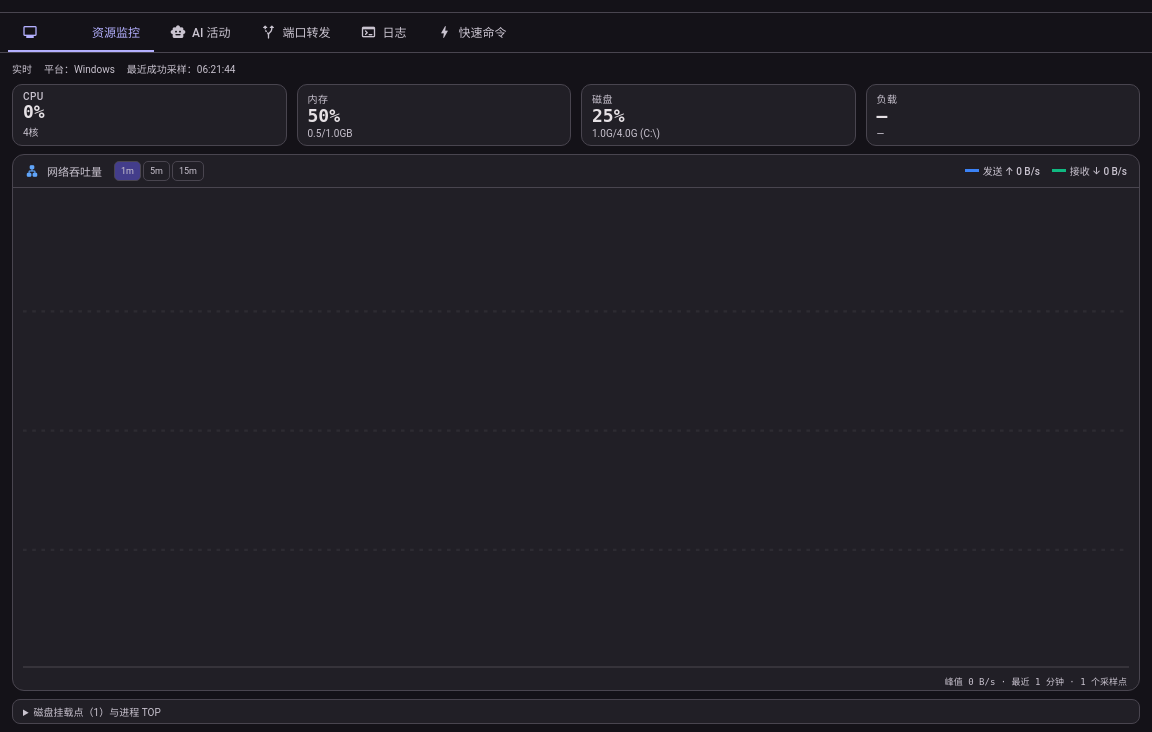
Test: 监控历史与状态 › 按跨平台能力展示 Windows 磁盘与进程，并隐藏不支持的负载平均值
Later steps or results of the test are not shown.
Expected: the text "—" is shown 2 times, [876,105,887,126]; [876,128,884,139]
Step 1. Click the heading "磁盘挂载点（1）与进程 TOP" → [97, 712], box [34,707,161,718]
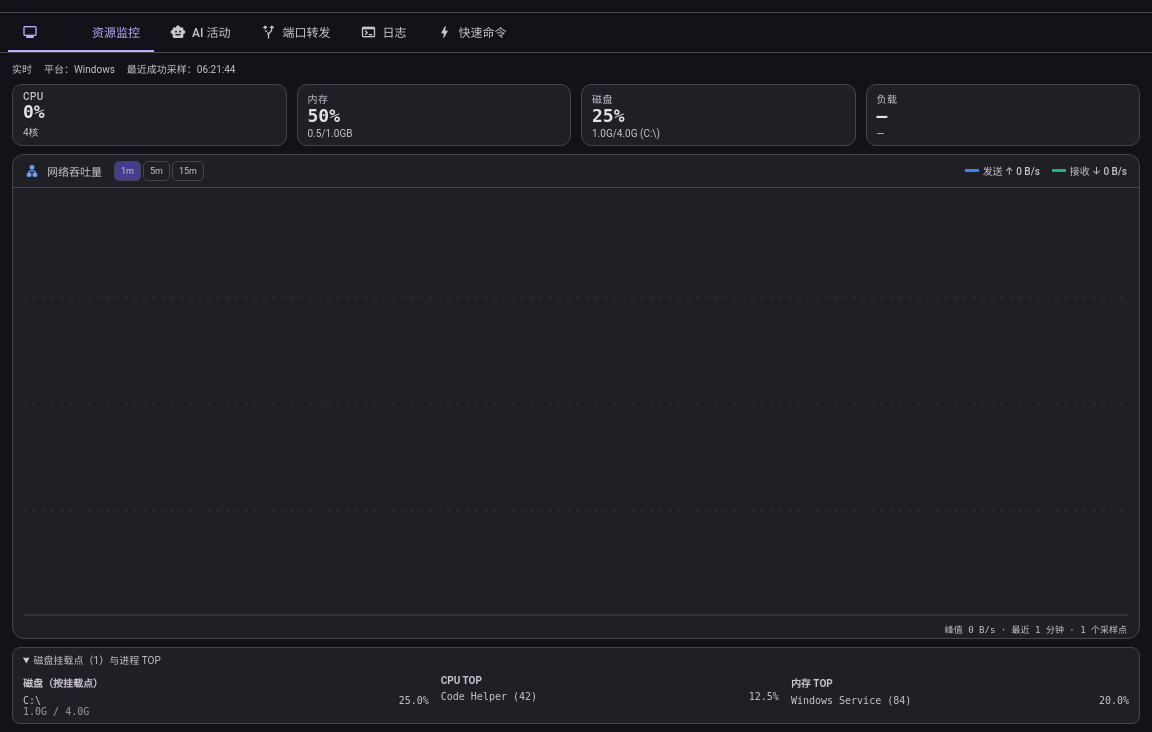
Expected: the text "C:\\" is shown, [23,695,41,706]
Expected: the text titled "Code Helper (42)" is shown, [441,691,537,702]
Expected: the text titled "Windows Service (84)" is shown, [791,695,911,706]
